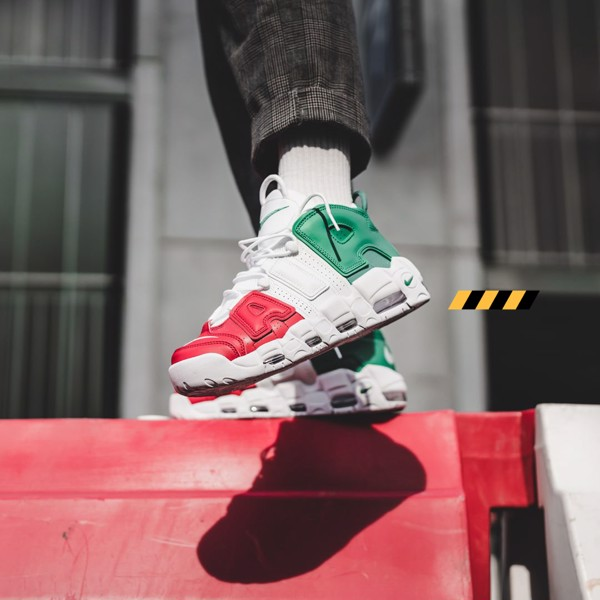Nike Air Uptempo '96 Italy: (149, 175, 437, 402)
